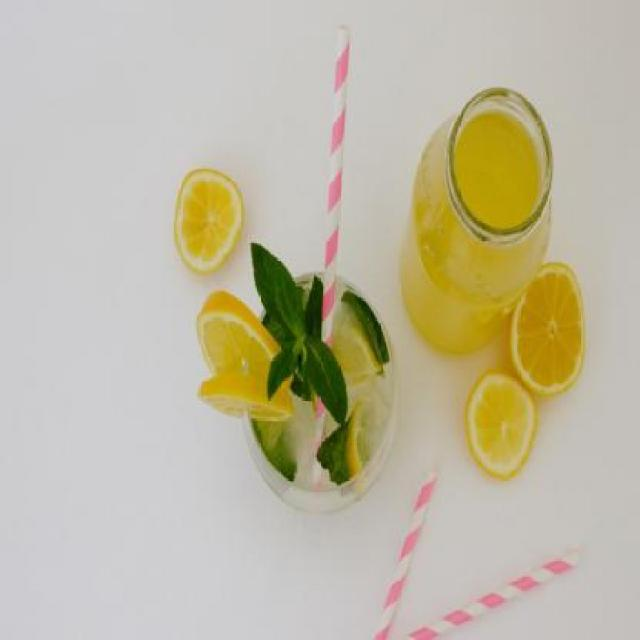Lemon: (510, 262, 584, 401), (195, 290, 288, 390), (465, 370, 541, 482), (172, 169, 246, 277), (200, 375, 291, 423), (343, 394, 385, 478), (336, 328, 382, 380)
